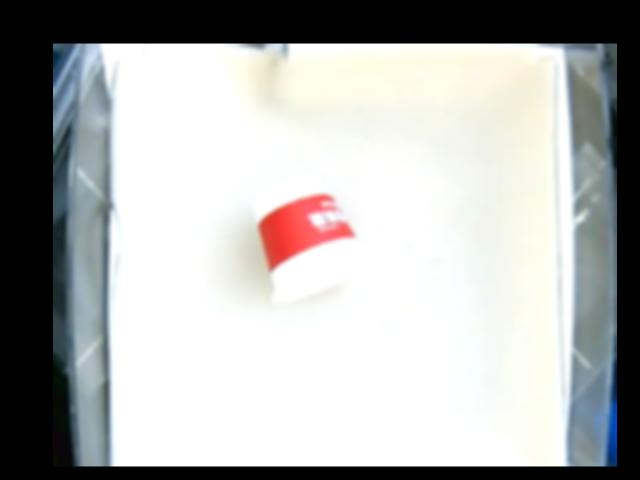Cup: (255, 172, 370, 303)
